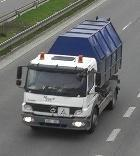truck: (17, 18, 123, 132)
